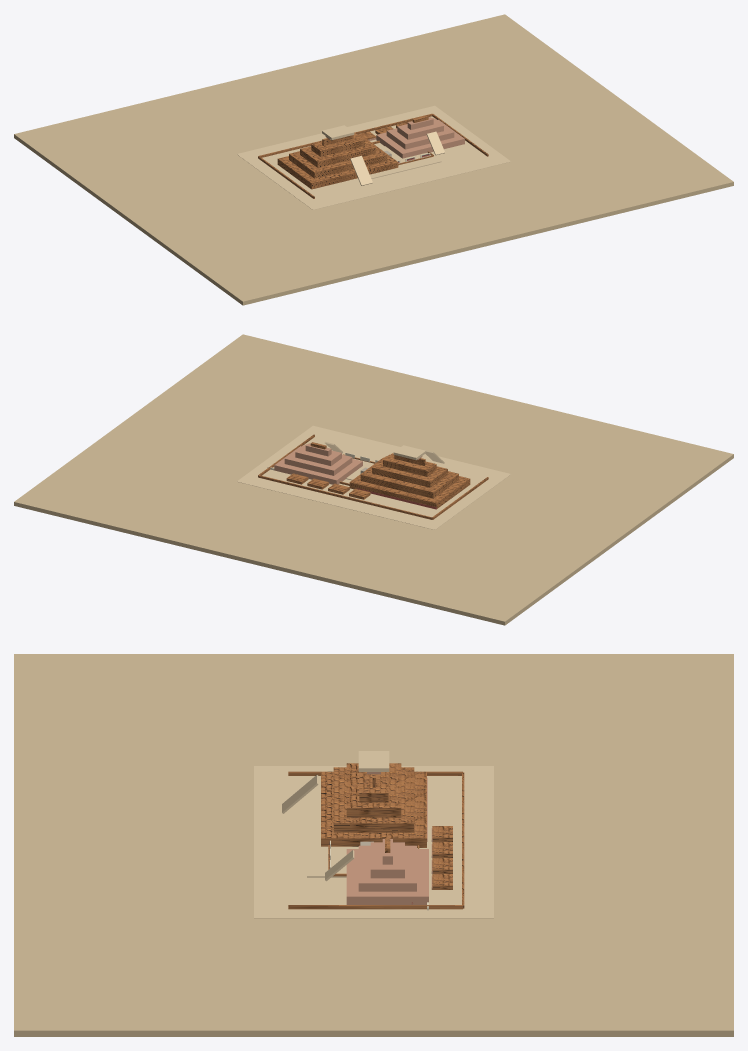
The model's file is moche_site_lod0.glb.
3 views of the same model, one above another, from view 1: azimuth 30°, elevation 25°; view 2: azimuth 150°, elevation 25°; view 3: azimuth 270°, elevation 25° (orthographic). The views are drawn at different scales.
Visible parts, largest first — view 1: Moche_LOD0_Terrain, Moche_LOD0_City, Moche_LOD0_Apron, Moche_LOD0_Walls; view 2: Moche_LOD0_Terrain, Moche_LOD0_City, Moche_LOD0_Apron, Moche_LOD0_Walls; view 3: Moche_LOD0_Terrain, Moche_LOD0_Apron, Moche_LOD0_City, Moche_LOD0_Walls.
Boxes of the visible parts, bbox=[...] form: Moche_LOD0_Terrain: bbox=[14, 14, 733, 305]; Moche_LOD0_City: bbox=[277, 116, 464, 189]; Moche_LOD0_Apron: bbox=[237, 105, 510, 209]; Moche_LOD0_Walls: bbox=[258, 113, 488, 198]; Moche_LOD0_Terrain: bbox=[14, 334, 733, 625]; Moche_LOD0_City: bbox=[274, 441, 470, 508]; Moche_LOD0_Apron: bbox=[237, 425, 510, 529]; Moche_LOD0_Walls: bbox=[258, 434, 488, 519]; Moche_LOD0_Terrain: bbox=[14, 654, 733, 1036]; Moche_LOD0_Apron: bbox=[254, 766, 493, 918]; Moche_LOD0_City: bbox=[282, 751, 452, 904]; Moche_LOD0_Walls: bbox=[288, 771, 464, 910].
Bounding box in the file's own units: 520 × 39.6 × 420.
Materials: 8 (1 with a texture image).
